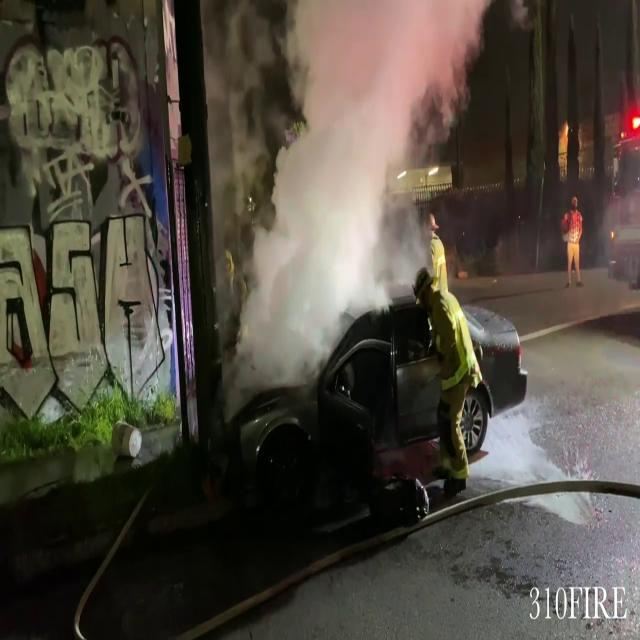Smoke: (227, 1, 471, 377)
